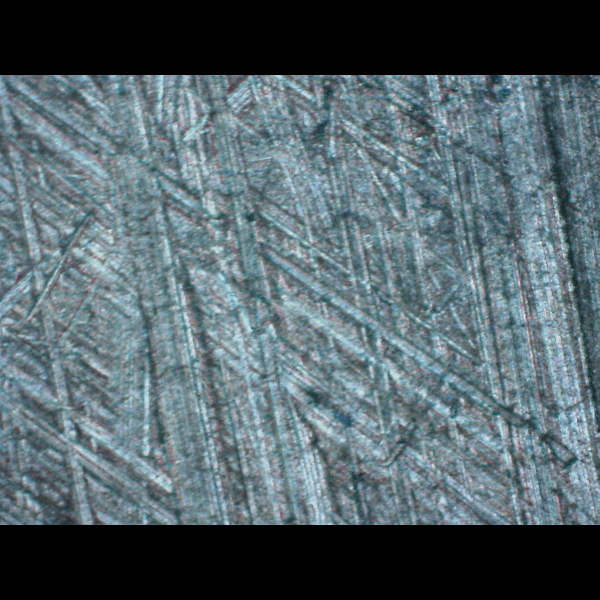d: (74, 75, 340, 522), (424, 77, 600, 525)
